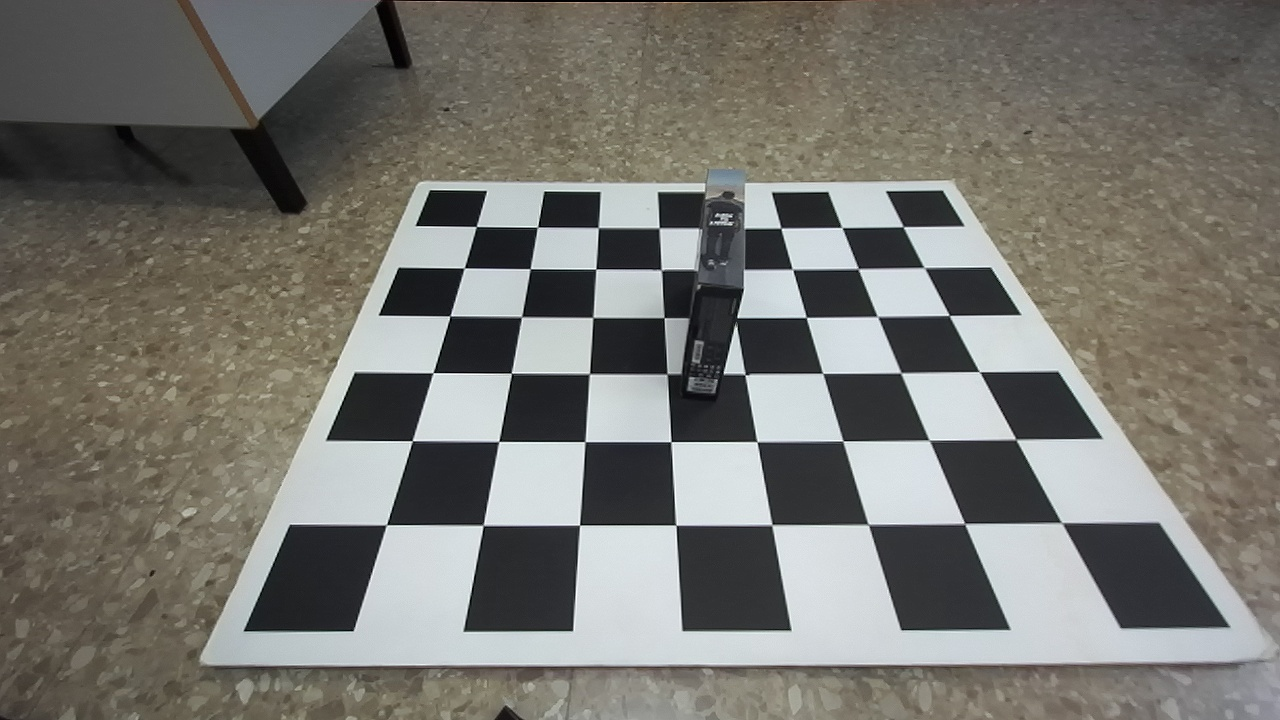caja_chasis: (679, 171, 745, 397)
